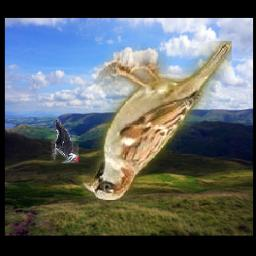Sparrow: (82, 42, 232, 201)
Woodpecker: (51, 119, 80, 163)
